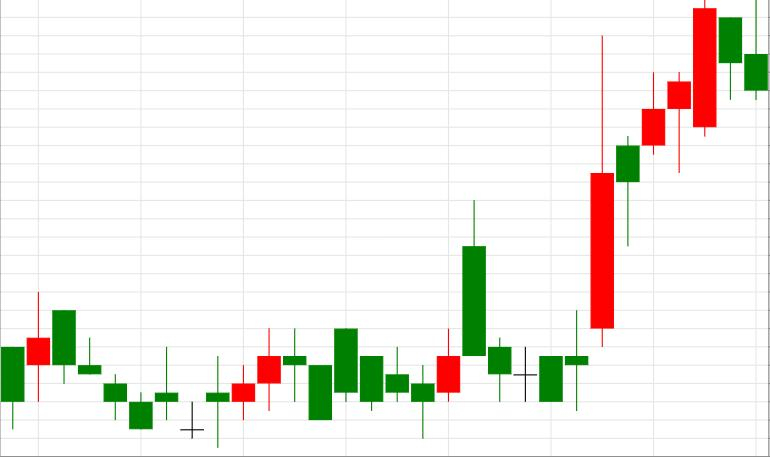hanging_man_fall: (591, 35, 691, 346)
